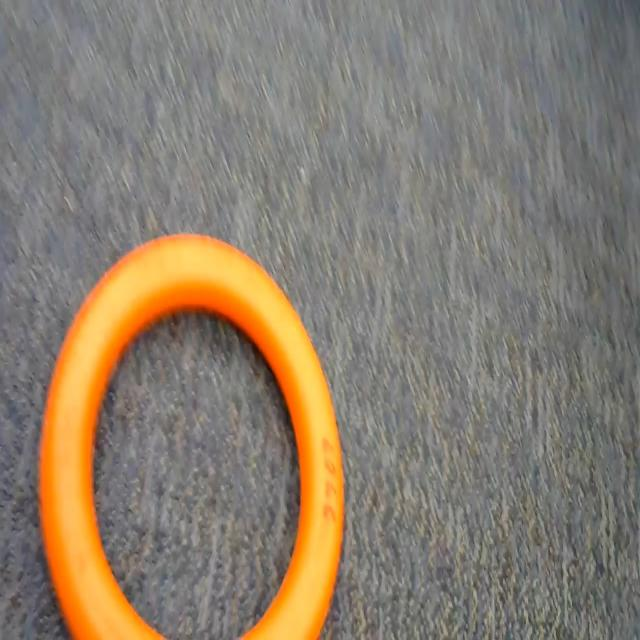note: (28, 229, 358, 640)
